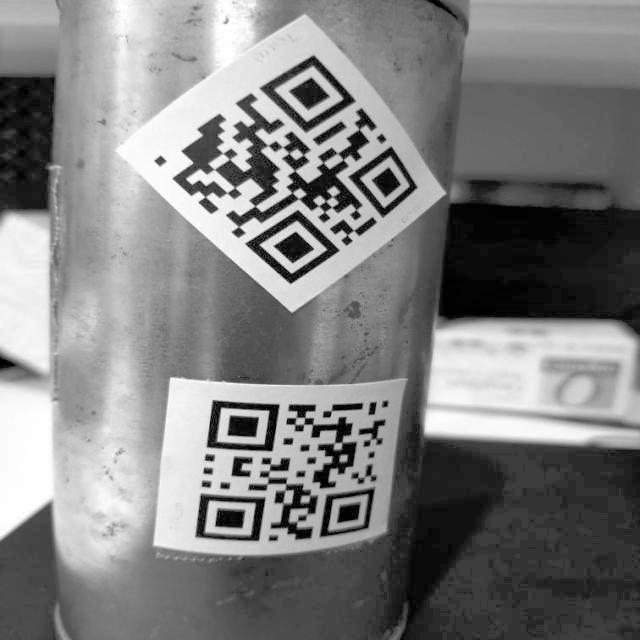qr_code: (142, 45, 433, 290), (179, 383, 395, 550)
